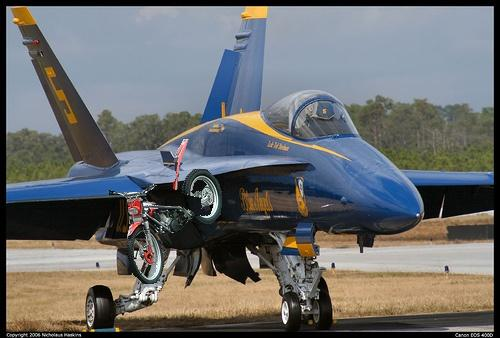tampered: (110, 140, 222, 284)
